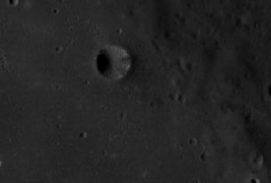crater: (83, 36, 158, 113), (55, 119, 116, 156), (35, 2, 85, 31)
